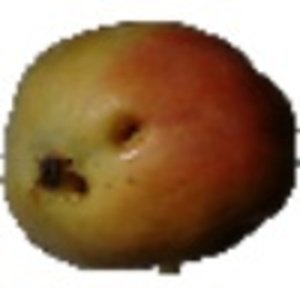mamão: (2, 17, 296, 274)
